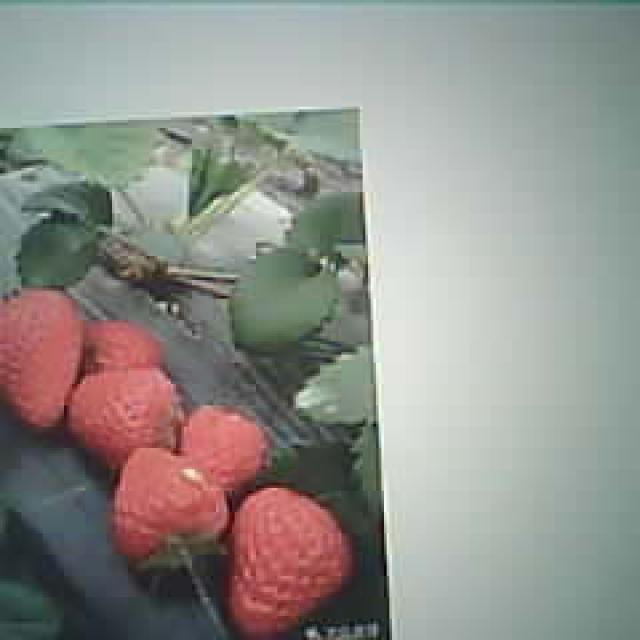ripe: (229, 489, 351, 638), (115, 450, 228, 561), (0, 289, 80, 427), (76, 367, 178, 463)
